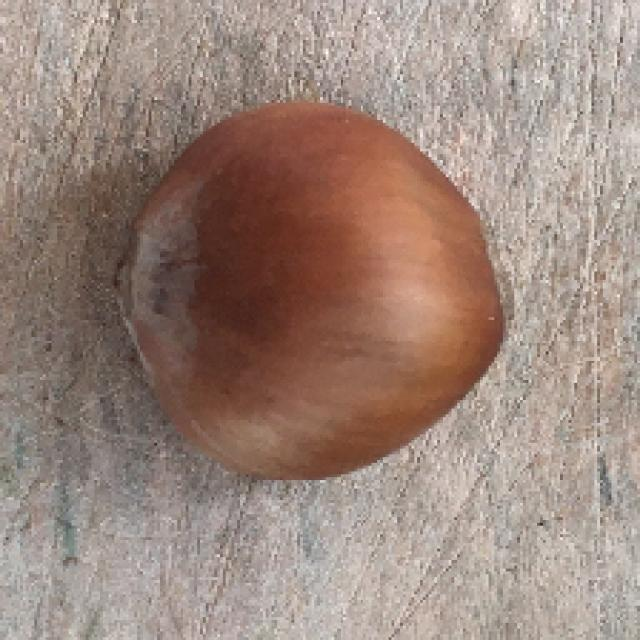damagedHazelnut: (109, 88, 530, 490)
